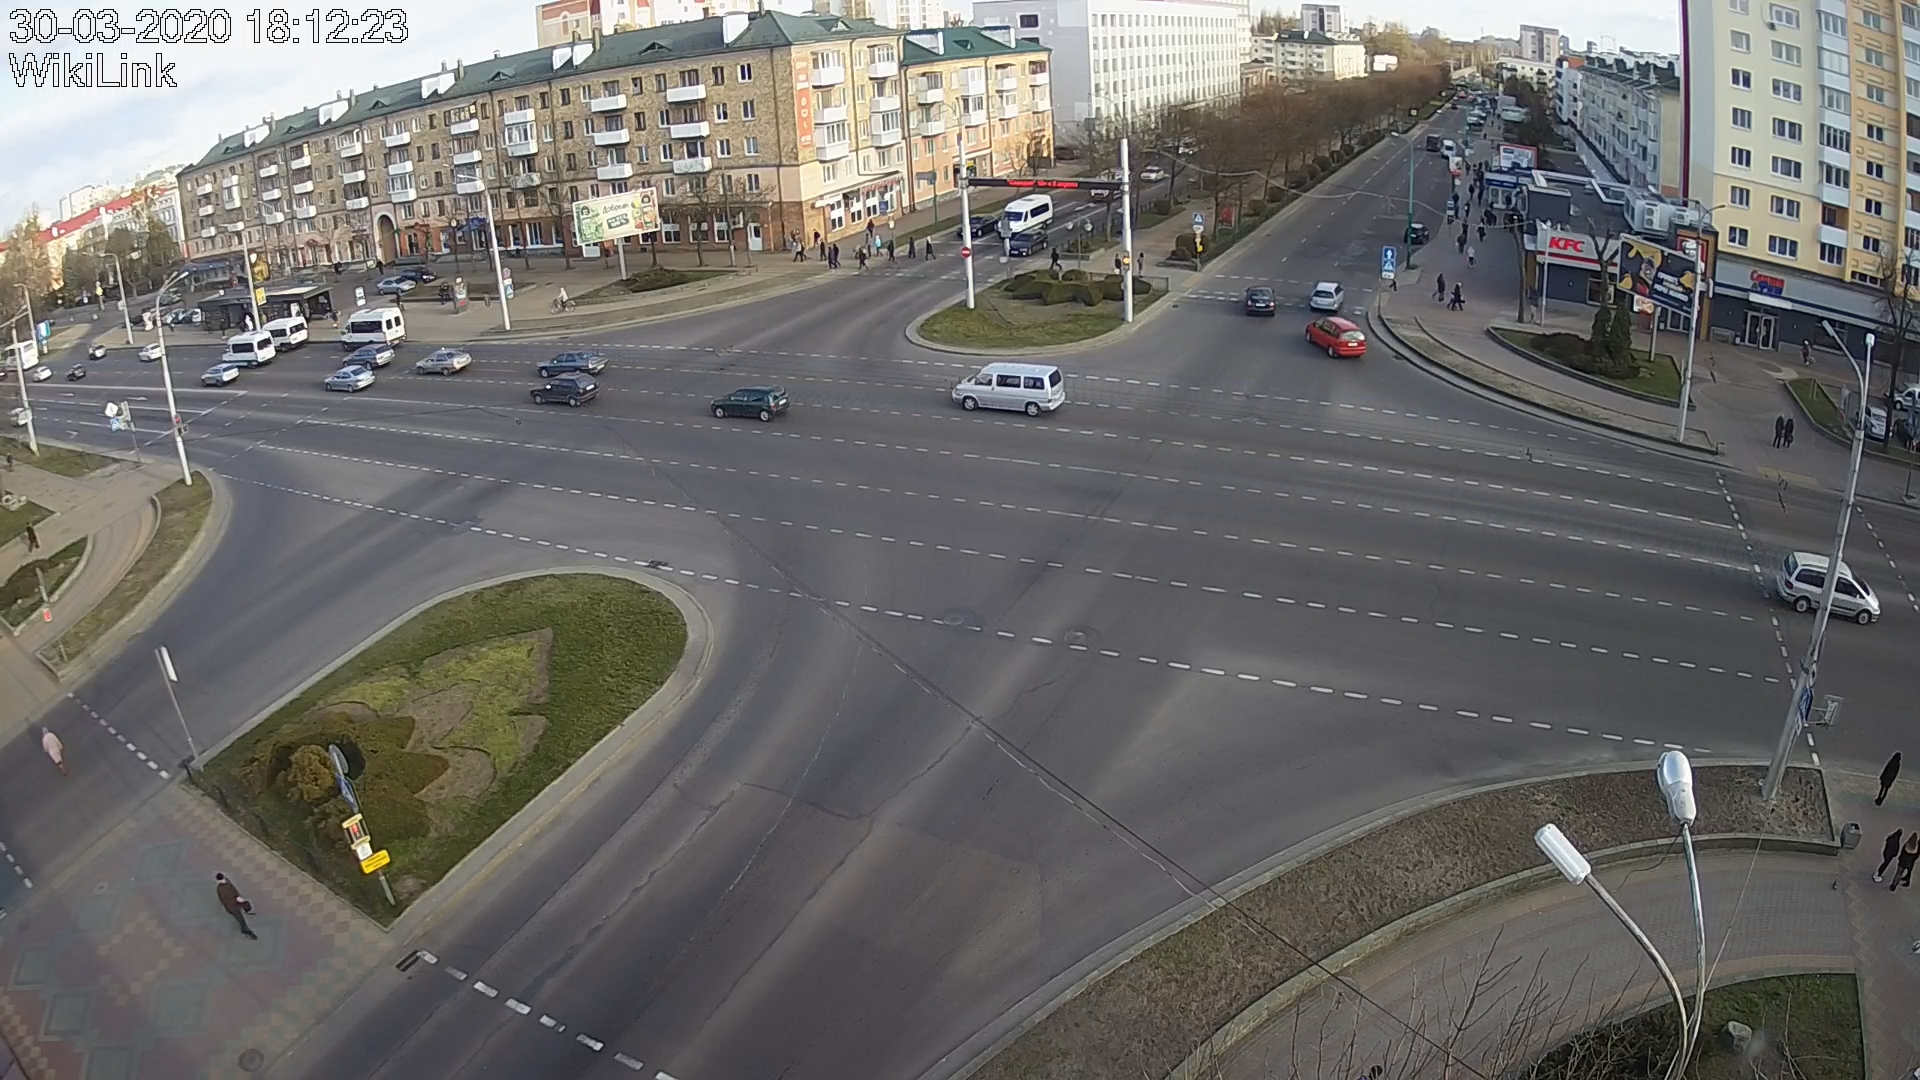car: (1776, 551, 1880, 625), (952, 361, 1067, 417), (709, 385, 791, 422), (342, 309, 407, 352), (1305, 316, 1367, 357), (530, 372, 600, 407), (997, 194, 1054, 237), (537, 349, 611, 378), (222, 331, 276, 367), (262, 316, 309, 353), (415, 347, 472, 376), (342, 344, 396, 371), (324, 367, 376, 392), (1309, 280, 1345, 311), (1009, 228, 1048, 256), (957, 214, 997, 239), (1245, 286, 1276, 315), (202, 363, 239, 386)
